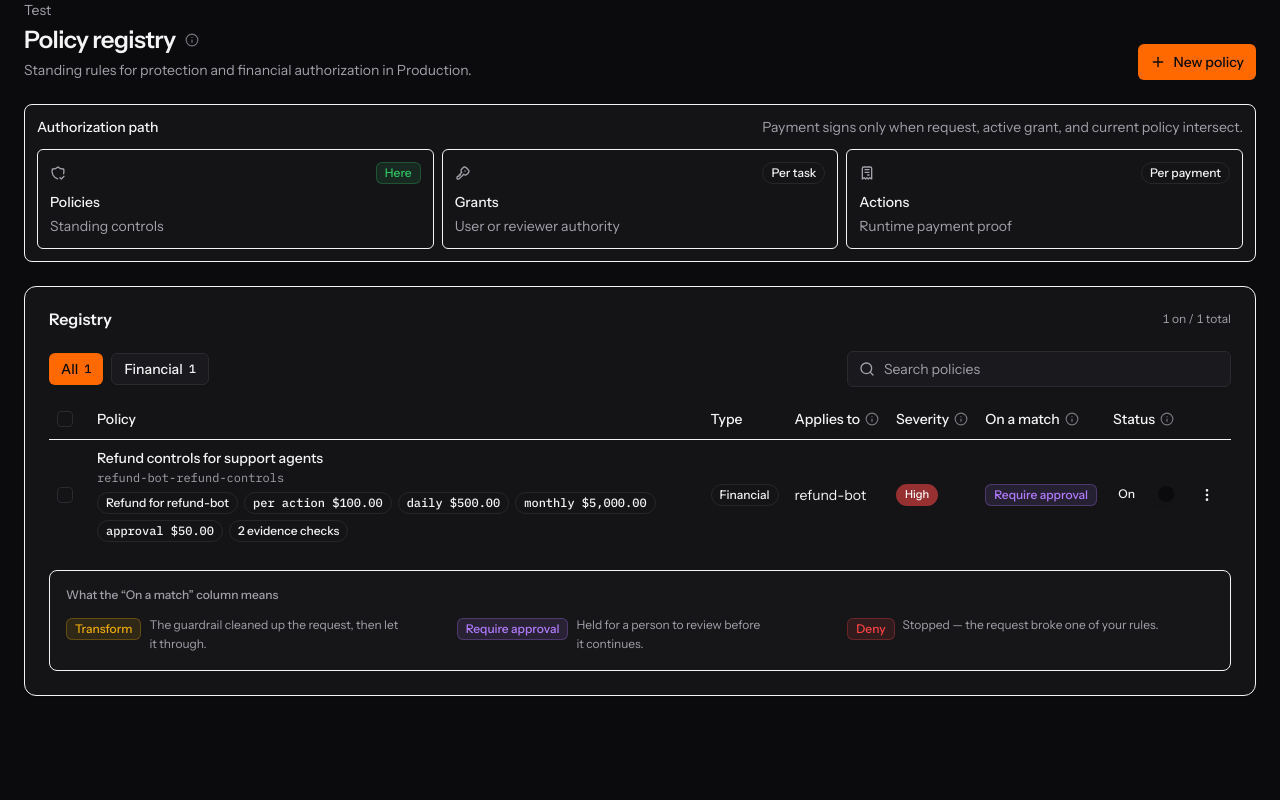
it: PoliciesPageContent › opens the financial editor for financial registry rows
Click the button named "actions" at (1207, 494), box [1191,478,1223,510]
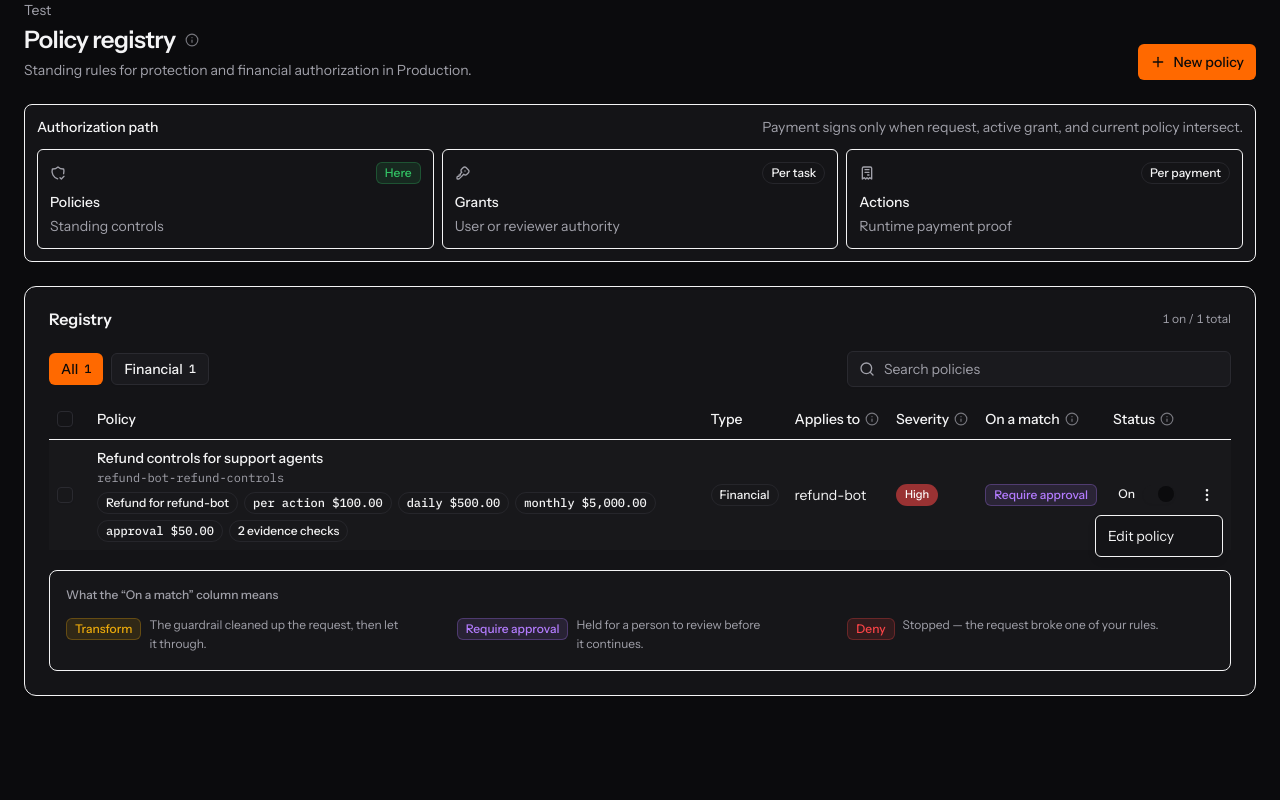
Click the menu item "Edit policy" at (1141, 536), box [1108,527,1174,545]
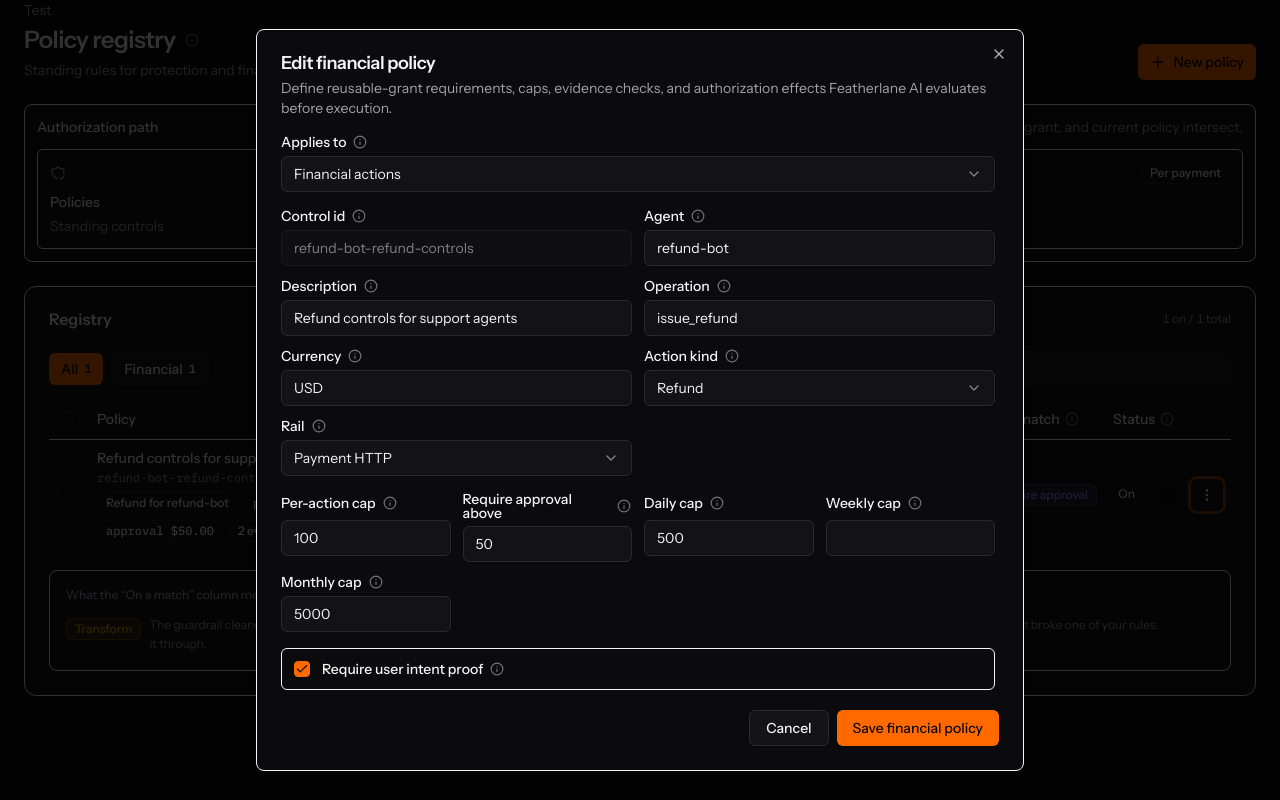
Check: the heading "Edit financial policy" is shown, box [281,52,435,74]
Check: the field showing "refund-bot-refund-controls" below "Control id" is disabled, box [281,230,632,266]
Check: the field showing "500" below "Daily cap" is shown, box [644,520,814,556]
